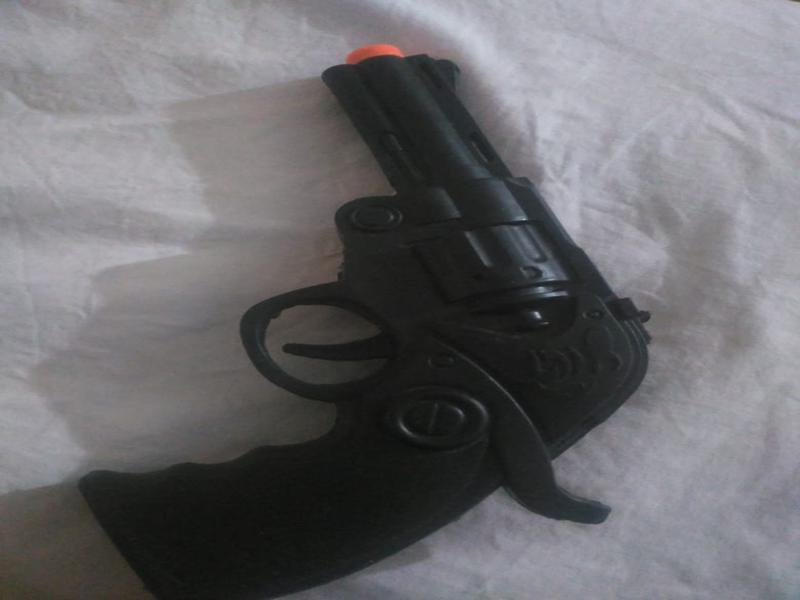gun: (74, 29, 663, 600)
